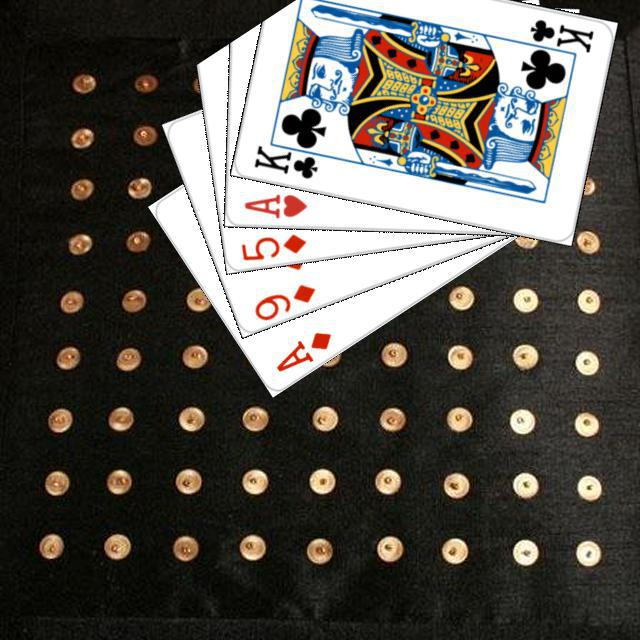5d: (236, 229, 308, 263)
9d: (249, 279, 317, 322)
Ad: (271, 326, 333, 374)
Ah: (239, 189, 309, 220)
Kc: (249, 136, 329, 181), (515, 14, 595, 58)
